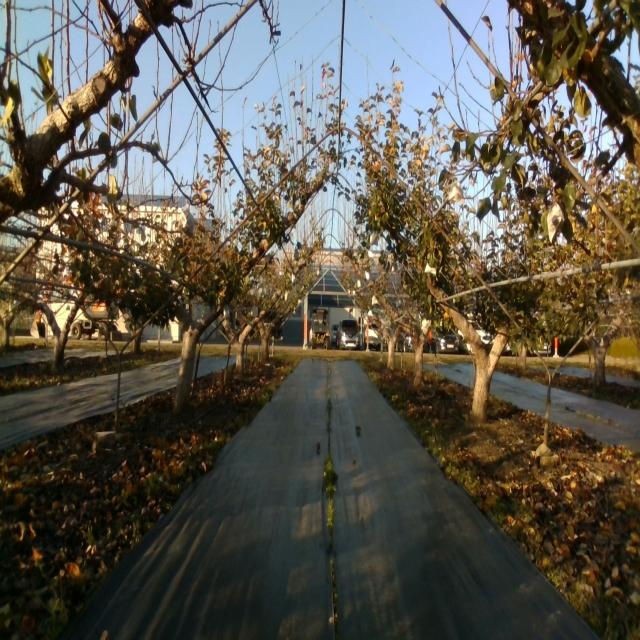pearbags: (547, 203, 565, 242), (178, 204, 194, 240), (448, 180, 466, 204)
